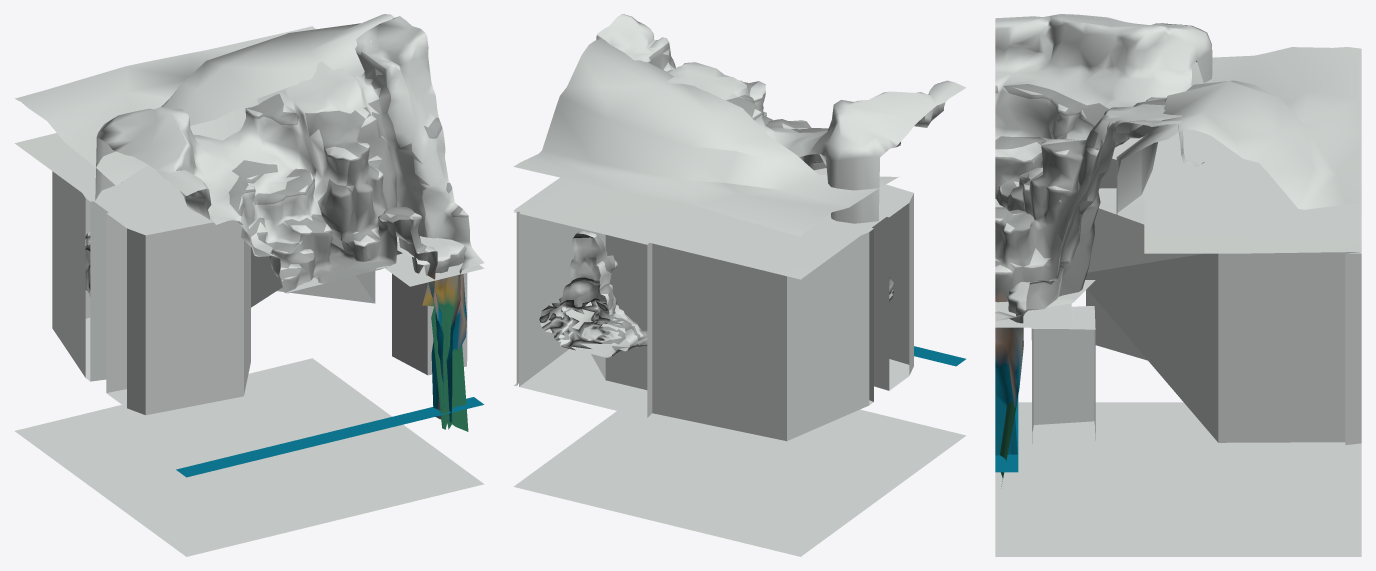
The picture shows the model from 3 angles, left to right: view 1: azimuth 30°, elevation 25°; view 2: azimuth 150°, elevation 25°; view 3: azimuth 270°, elevation 25°; orthographic projection. The views are drawn at different scales.
Parts seen in each view (by area): view 1: G:\FFXIV-MapTools\exports\s1f6\bg\ffxiv\sea_s1\fld\s1f6\bgpl (×17); view 2: G:\FFXIV-MapTools\exports\s1f6\bg\ffxiv\sea_s1\fld\s1f6\bgpl (×10); view 3: G:\FFXIV-MapTools\exports\s1f6\bg\ffxiv\sea_s1\fld\s1f6\bgpl (×16).
Part boxes in pixels (left/top/right/bottom): G:\FFXIV-MapTools\exports\s1f6\bg\ffxiv\sea_s1\fld\s1f6\bgpl (×17): left=14, top=14, right=484, bottom=556; G:\FFXIV-MapTools\exports\s1f6\bg\ffxiv\sea_s1\fld\s1f6\bgpl (×10): left=513, top=14, right=966, bottom=556; G:\FFXIV-MapTools\exports\s1f6\bg\ffxiv\sea_s1\fld\s1f6\bgpl (×16): left=995, top=14, right=1361, bottom=556.
Size of the model in its own units: 128 by 168 by 128.
